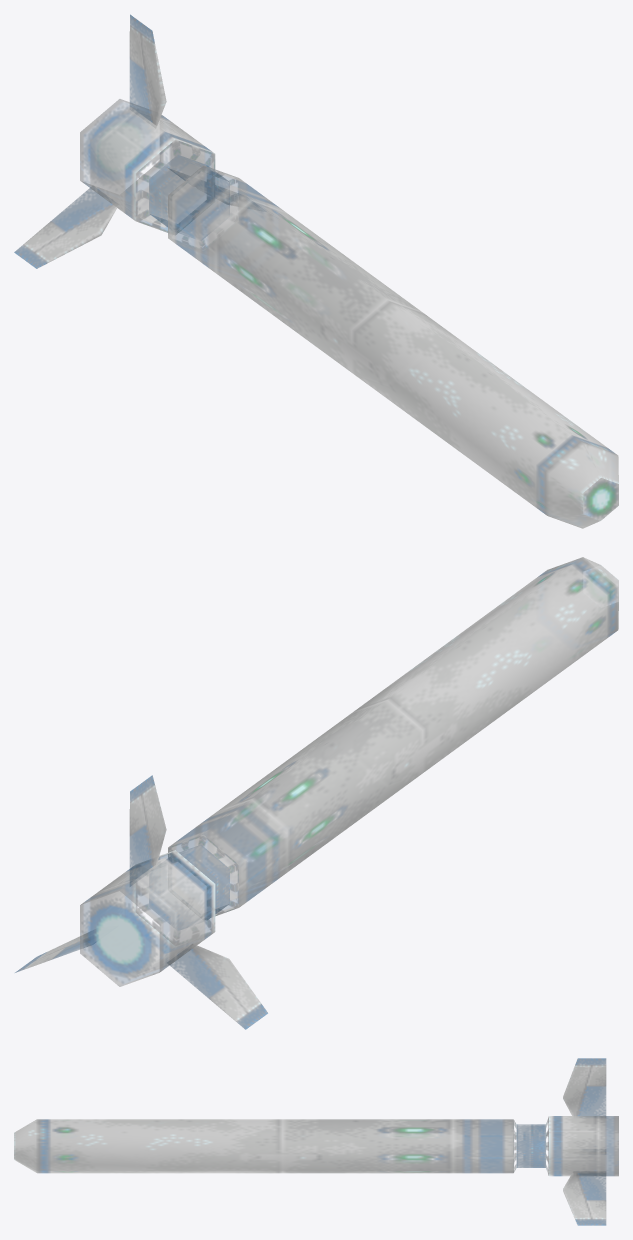
Rendered from si_esa_0100.glb.
The picture shows the model from 3 angles, top to bottom: view 1: azimuth 30°, elevation 25°; view 2: azimuth 150°, elevation 25°; view 3: azimuth 270°, elevation 25°; orthographic projection. The views are drawn at different scales.
Visible parts, largest first — view 1: layer_00_si_esa_0100; view 2: layer_00_si_esa_0100; view 3: layer_00_si_esa_0100.
Part boxes in pixels (x1,y1,x2,y2): layer_00_si_esa_0100: [14, 14, 618, 528]; layer_00_si_esa_0100: [15, 557, 618, 1029]; layer_00_si_esa_0100: [14, 1058, 618, 1225].
Bounding box in the file's own units: 7.85 × 6.8 × 28.26.
Materials: 1 (1 with a texture image).
